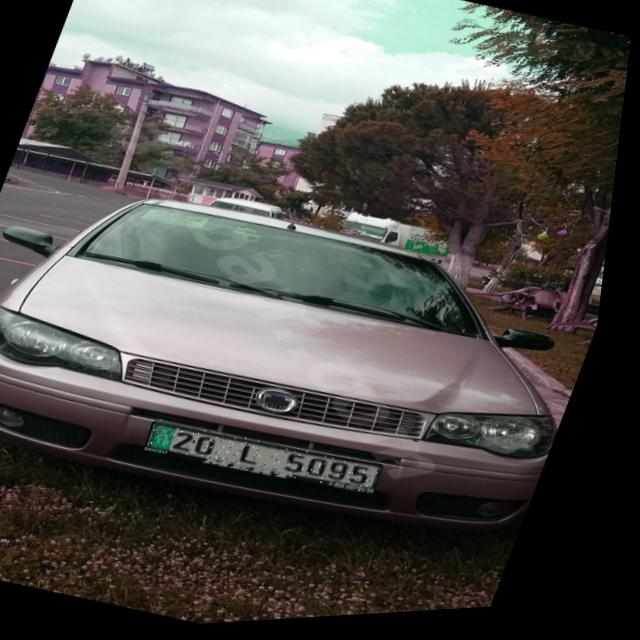license_plate: (152, 410, 399, 510)
